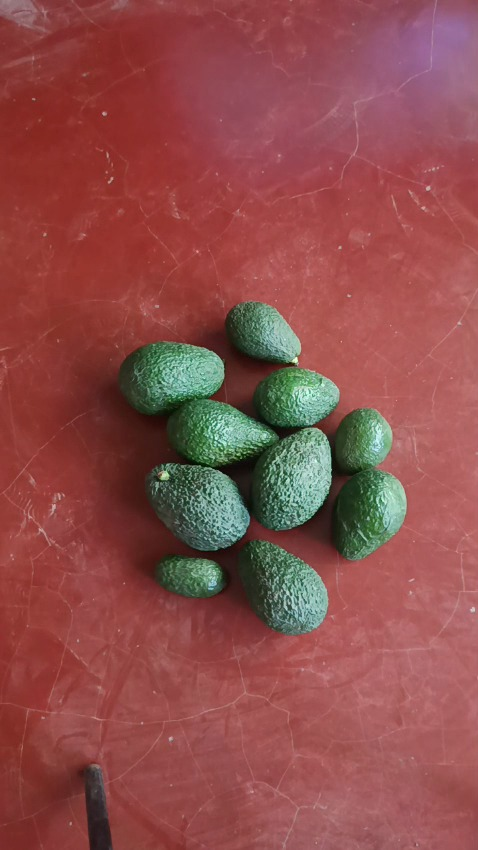Primera: (146, 463, 251, 550), (250, 428, 333, 530), (236, 539, 326, 631), (166, 398, 280, 467), (118, 342, 225, 415)
Segunda: (331, 469, 407, 558), (253, 367, 341, 428)
Tercera: (225, 302, 301, 363), (333, 408, 393, 474), (154, 555, 228, 598)
